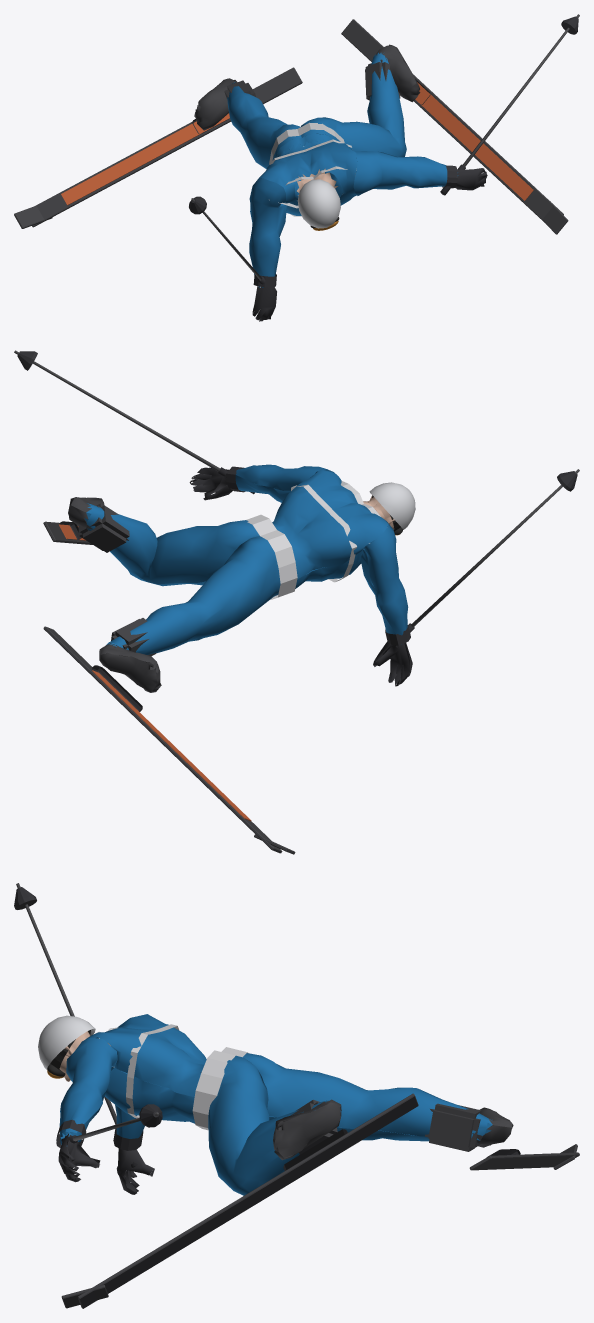
File: skier-tumble.glb
The picture shows the model from 3 angles, top to bottom: view 1: azimuth 30°, elevation 25°; view 2: azimuth 150°, elevation 25°; view 3: azimuth 270°, elevation 25°; orthographic projection. The views are drawn at different scales.
Visible parts, largest first — view 1: skier-tumble; view 2: skier-tumble; view 3: skier-tumble.
Part boxes in pixels (x1,y1,x2,y2): skier-tumble: (14,14,579,321); skier-tumble: (14,350,579,854); skier-tumble: (14,883,579,1308).
Bounding box in the file's own units: 2.47 × 1.24 × 2.13.
